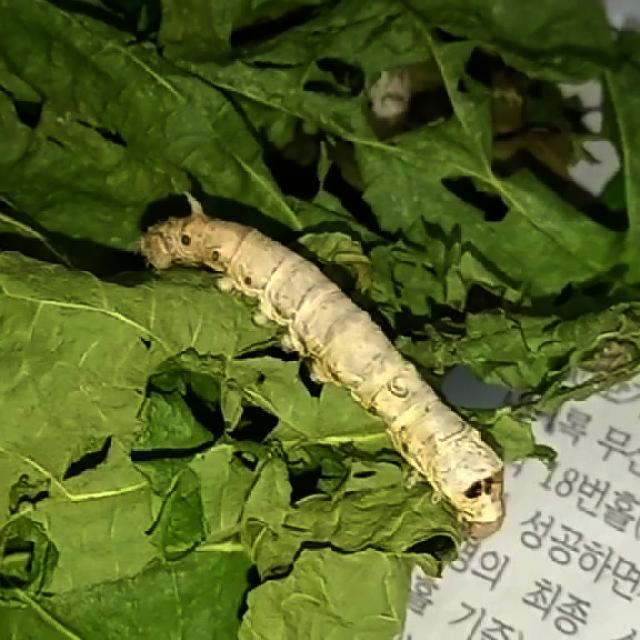Grasserie: (110, 180, 540, 554)
